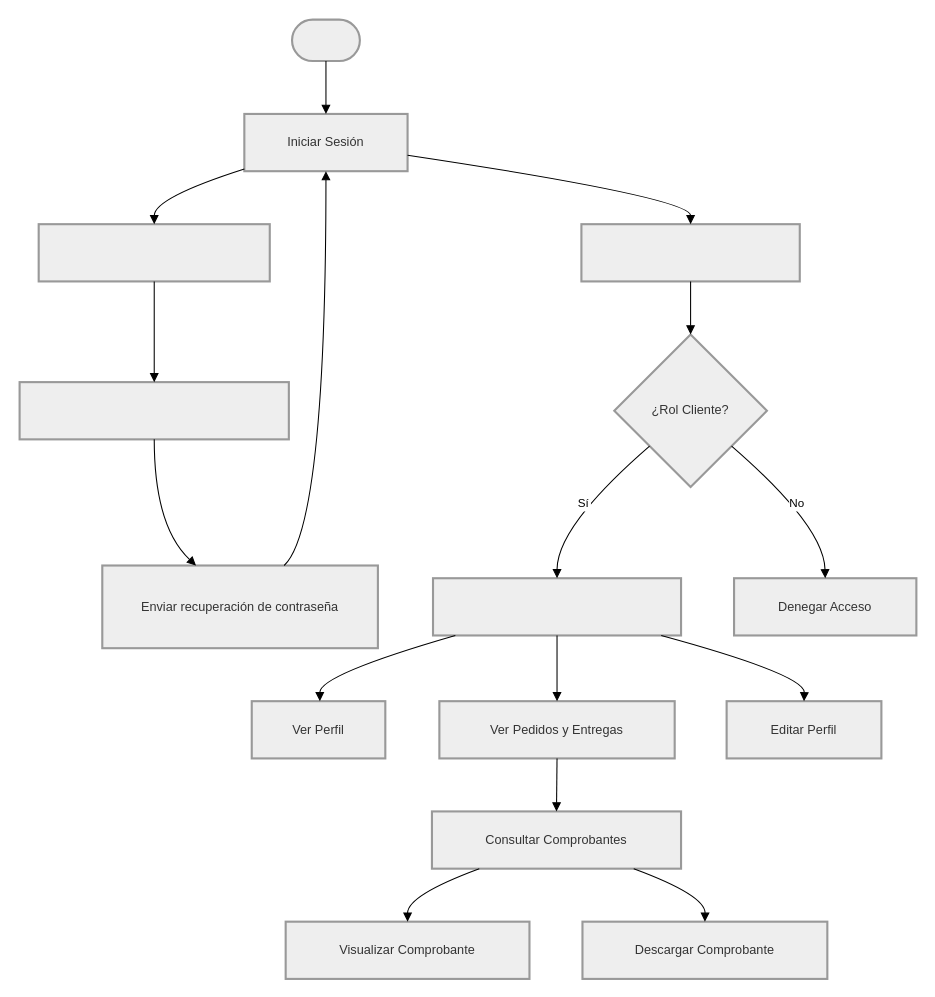
Image size: 935x997. Some labels were removed from this diagram. Here are the shapes that lost their labels. From the top down, the box of each, then its label:
(290, 18, 360, 61): Inicio
(37, 223, 270, 282): ¿Olvidó la contraseña?
(580, 223, 800, 282): Validar Credenciales
(18, 381, 289, 440): Ingresar correo electrónico
(431, 577, 682, 636): Mostrar Cuenta Personal
